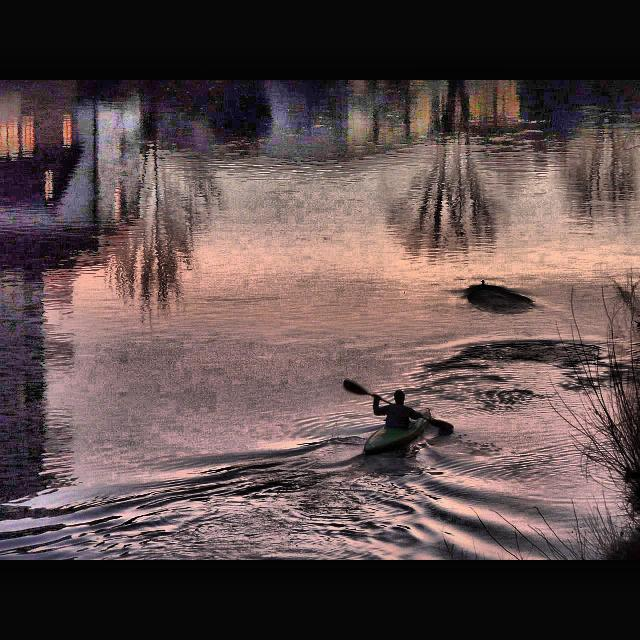kayak: (363, 406, 431, 456)
